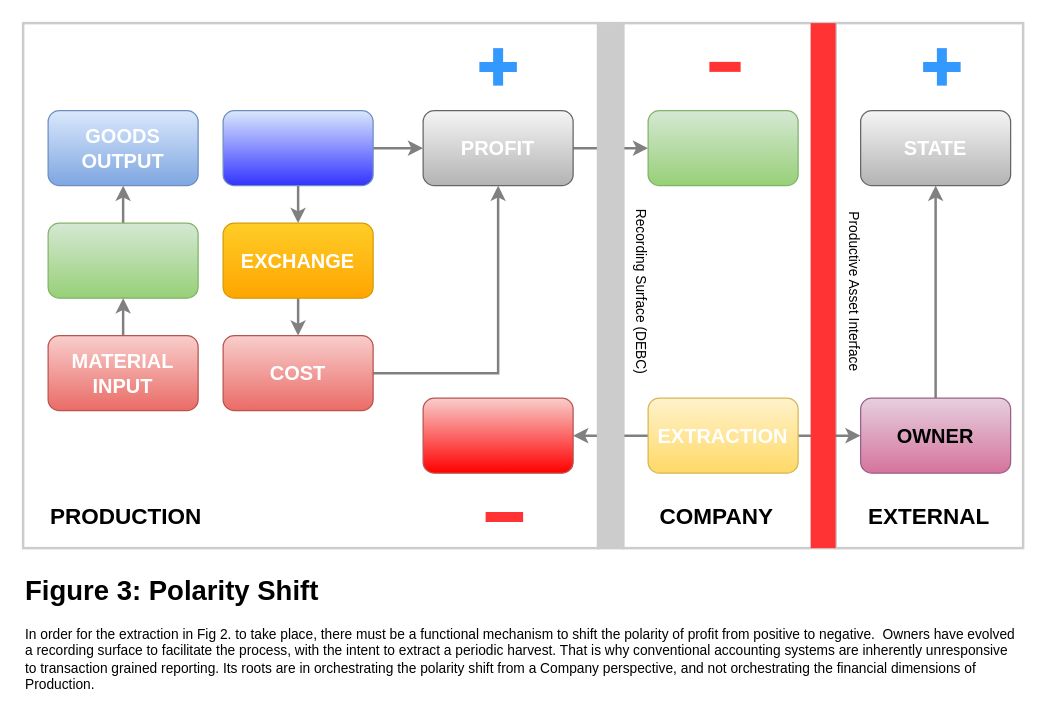
Image size: 1045x723. Some labels were removed from this diagram. Here are the shapes that lost their labels. From the top down, the centre of each, then its label:
(297,147): PRICE
(722,147): CAPITAL
(122,260): TRANSFORM
(497,435): LOSS
